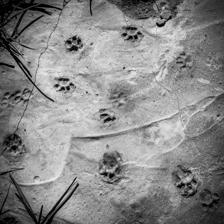cat: (96, 153, 126, 184), (61, 30, 85, 54), (52, 76, 78, 96)
